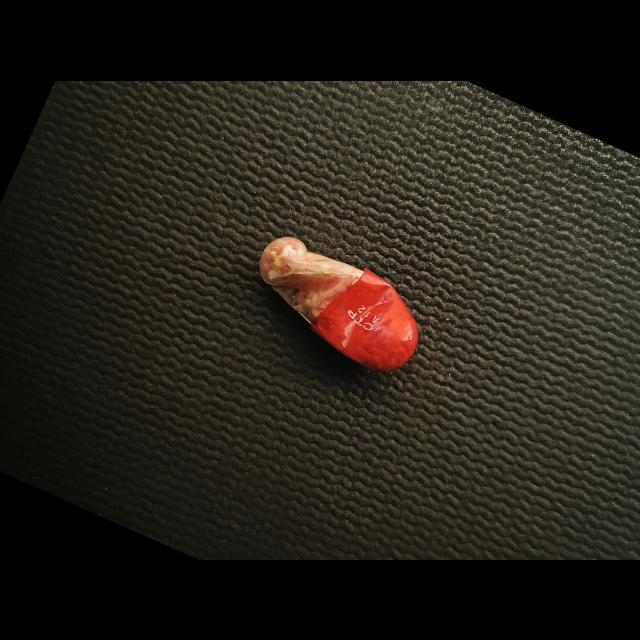Defective Capsule: (260, 236, 418, 370)
